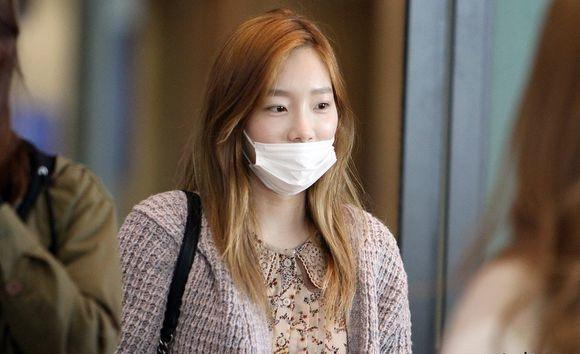WRONG: (243, 83, 347, 187)
